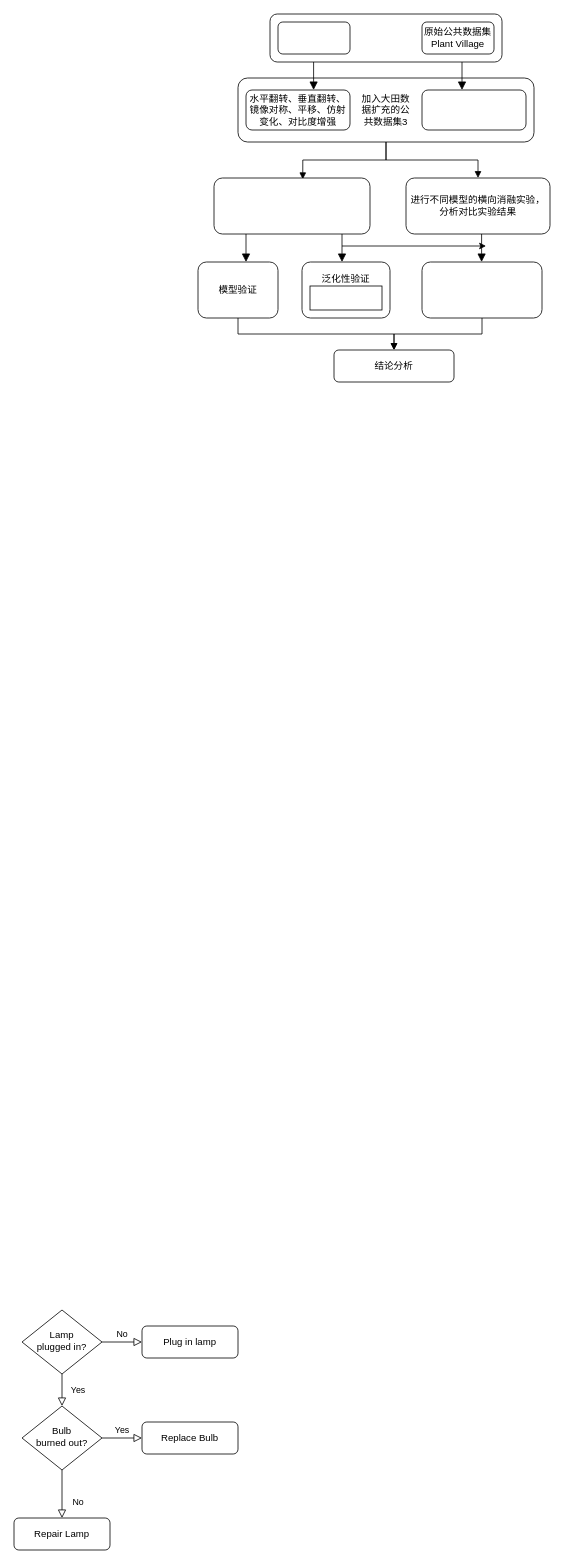
The diagram is 564 pixels wide and 1564 high, and some of its shapes have lost their labels. Here are the shapes that lost their labels. From the top down, the box of each, then its label:
(277, 21, 350, 54): 大田数据集
(269, 13, 502, 62): 数据采集
(421, 89, 526, 130): 扩充的公共数据集
(213, 177, 370, 234): 进行模型自身的消融实验，分别加入ghostnet和se注意力机制，对比每个模块对最终模型性能的贡献，分析对比实验结果
(309, 285, 382, 310): 未经过背景分割的大田数据
(421, 261, 542, 318): 对比分析各个模型的查全率、查准率、平均识别准确率和loss收敛情况
